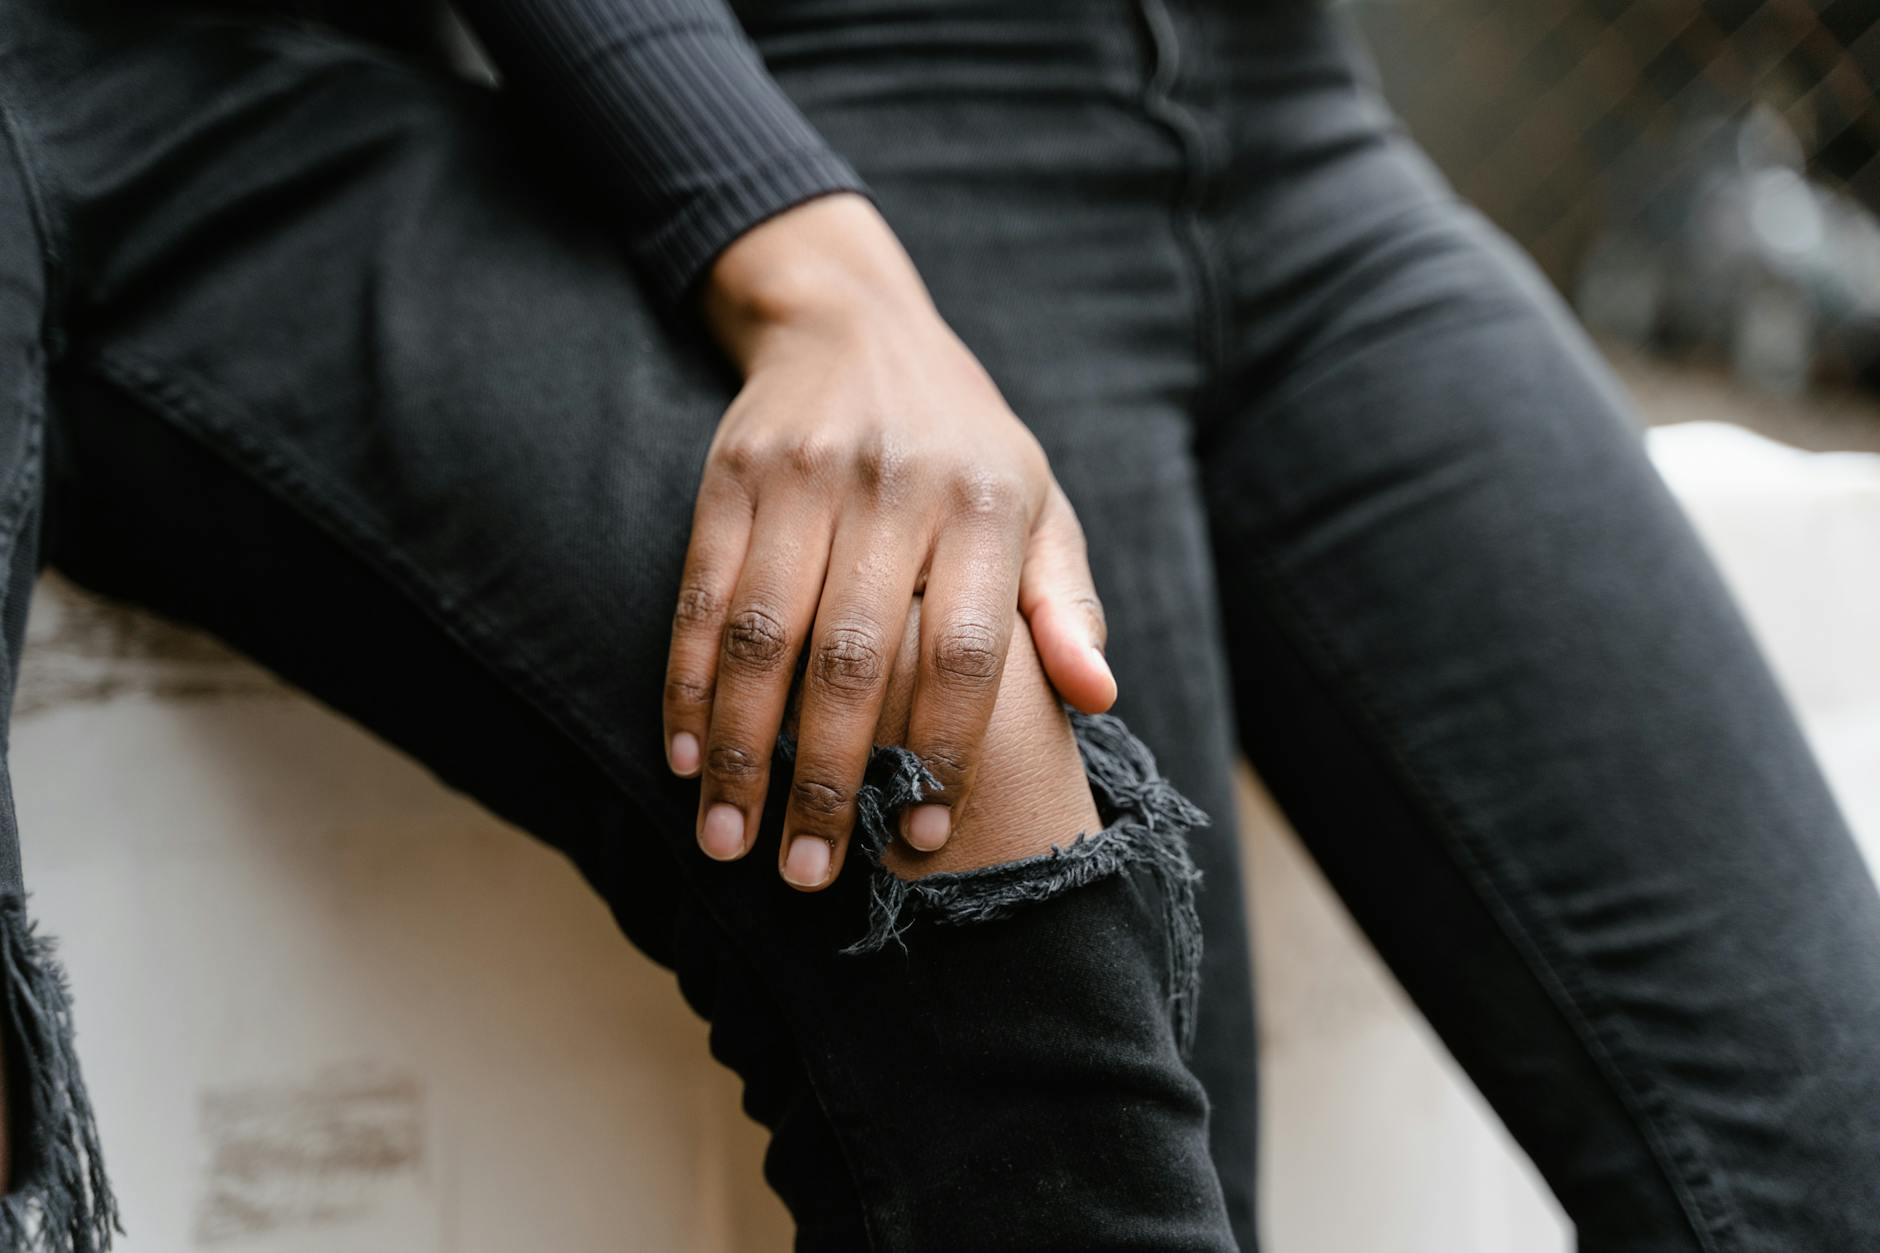ripped_jeans: (524, 232, 1880, 1253)
